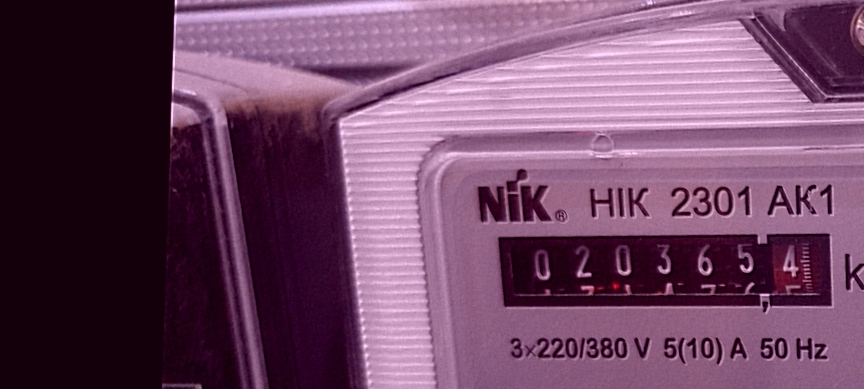0: (531, 245, 553, 280), (613, 240, 633, 276)
2: (570, 241, 594, 277)
3: (654, 238, 673, 274)
4: (780, 241, 800, 275)
5: (734, 239, 755, 272)
6: (694, 239, 714, 275)
screen: (480, 210, 851, 325)
